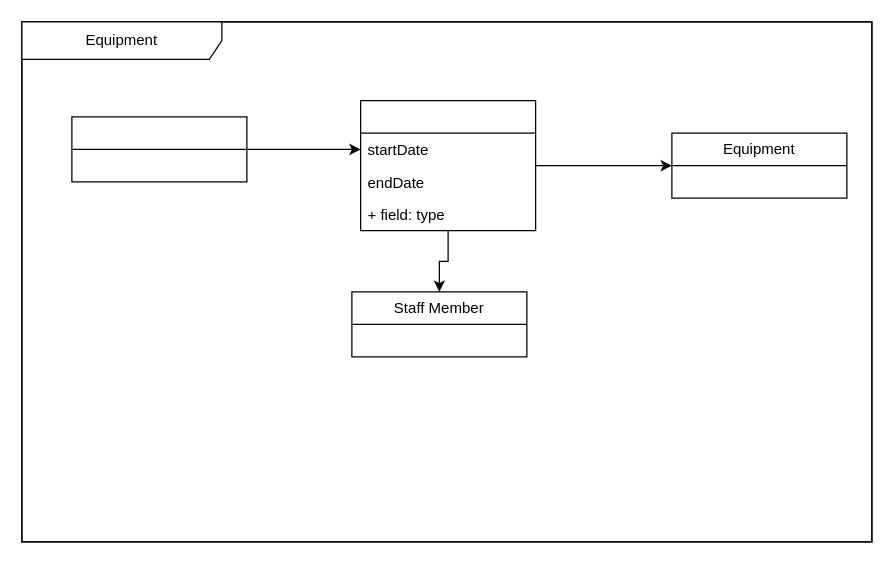
The diagram is 894 pixels wide and 564 high, and some of its shapes have lost their labels. Here are the shapes that lost their labels. From the top down, the box of each, then its label:
(71, 116, 247, 182): Student
(359, 99, 536, 231): Booking
